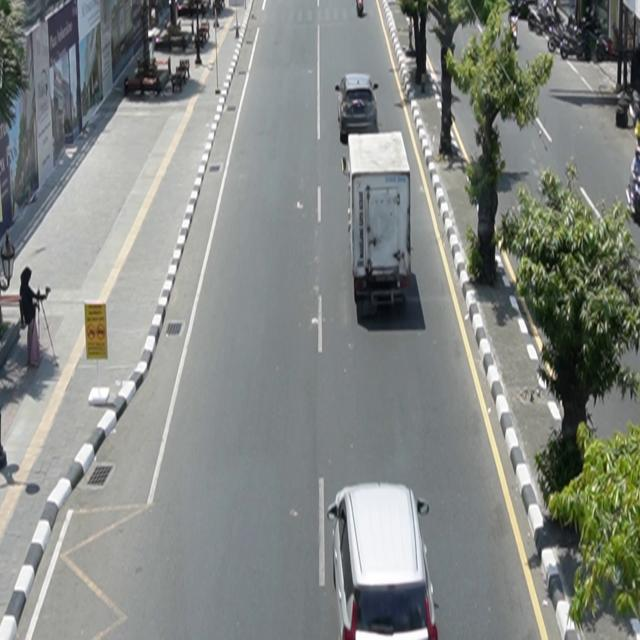car: (328, 483, 440, 640), (336, 73, 380, 144)
truck: (341, 131, 413, 319)
